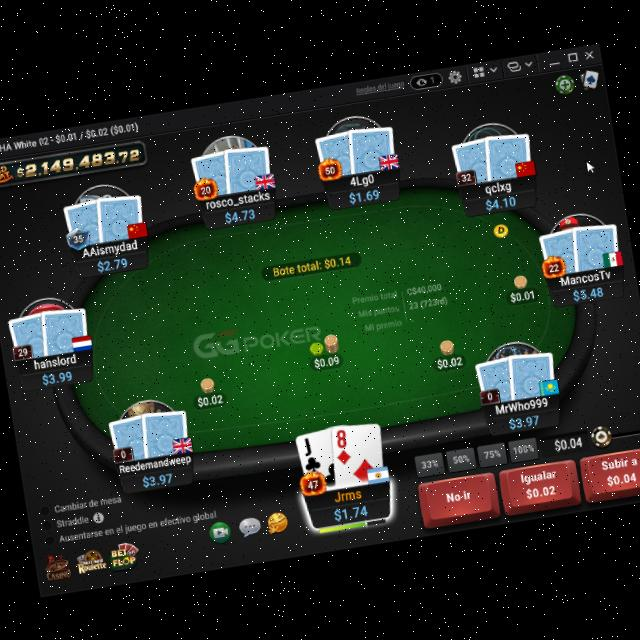8d: (332, 426, 354, 466)
Jc: (300, 434, 323, 472)
bet_text: (310, 349, 342, 368), (508, 284, 537, 302), (195, 392, 225, 408), (437, 354, 463, 370)
card_back: (343, 118, 400, 176), (136, 402, 193, 459), (567, 215, 624, 272), (479, 124, 536, 181), (36, 300, 94, 356), (92, 186, 148, 244), (220, 138, 276, 195), (503, 344, 560, 399), (60, 192, 112, 248), (4, 306, 55, 361), (448, 132, 499, 186), (536, 222, 586, 277), (472, 351, 522, 404), (189, 145, 238, 199), (313, 126, 362, 180), (106, 410, 156, 462)
dealer: (491, 218, 512, 238)
hero_active: (414, 441, 640, 528)
pot_text: (270, 250, 354, 277)
stack_text: (331, 498, 371, 523), (38, 364, 74, 384), (94, 252, 129, 272), (483, 190, 518, 209), (140, 467, 174, 486), (222, 203, 256, 222), (346, 184, 381, 202), (570, 282, 605, 300), (508, 410, 540, 429)
